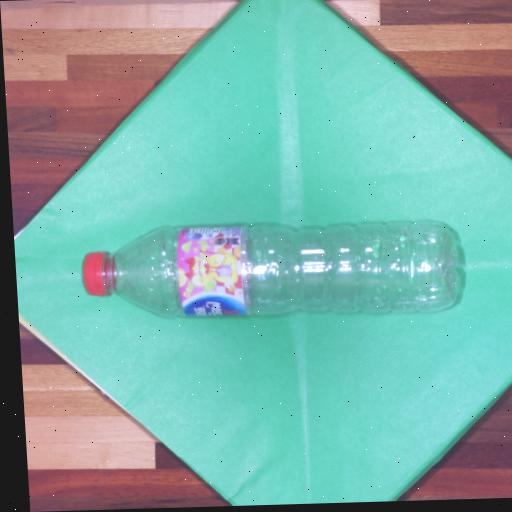bottle: (51, 196, 473, 336)
